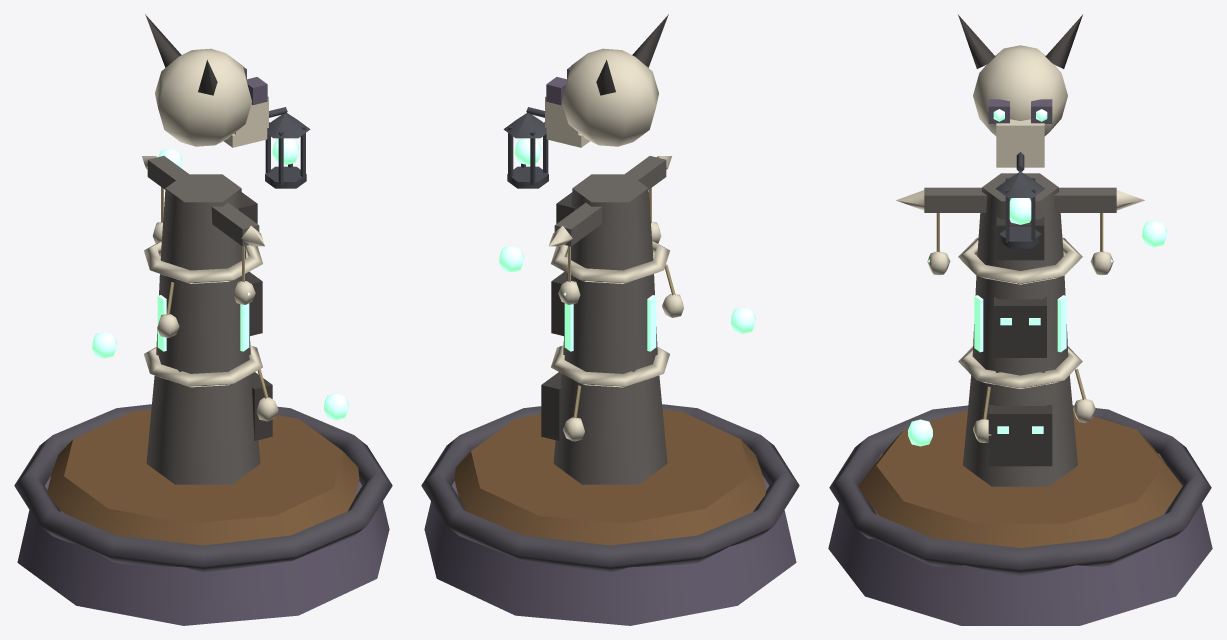
The model's file is tower_necromancer_soulChoir.glb.
3 views of the same model, side by side, from view 1: azimuth 30°, elevation 25°; view 2: azimuth 150°, elevation 25°; view 3: azimuth 270°, elevation 25° (orthographic).
Visible parts, largest first — view 1: grave_soil, base, base_rim, pole_0, skull_cranium, pole_1, pole_2, crossbar, bone_ring_1, bone_ring_0, pole_face_0, pole_face_1 (+6 smaller); view 2: grave_soil, base, base_rim, pole_0, pole_1, skull_cranium, pole_2, crossbar, bone_ring_1, bone_ring_0, pole_face_0, pole_face_1 (+7 smaller); view 3: grave_soil, base, base_rim, pole_0, skull_cranium, pole_1, pole_2, pole_face_0, crossbar, pole_face_1, bone_ring_1, bone_ring_0 (+11 smaller).
Boxes of the visible parts, <box> form: grave_soil: <box>47,409,359,545</box>; base: <box>17,475,389,625</box>; base_rim: <box>14,404,392,572</box>; pole_0: <box>146,374,260,484</box>; skull_cranium: <box>155,48,251,146</box>; pole_1: <box>156,257,250,373</box>; pole_2: <box>160,174,246,270</box>; crossbar: <box>147,156,259,246</box>; bone_ring_1: <box>144,241,262,283</box>; bone_ring_0: <box>144,345,262,387</box>; pole_face_0: <box>252,372,272,440</box>; pole_face_1: <box>247,271,262,336</box>; grave_soil: <box>454,409,766,545</box>; base: <box>424,475,796,625</box>; base_rim: <box>421,404,799,572</box>; pole_0: <box>553,374,667,484</box>; pole_1: <box>563,257,657,373</box>; skull_cranium: <box>562,48,658,146</box>; pole_2: <box>567,174,653,270</box>; crossbar: <box>554,156,666,246</box>; bone_ring_1: <box>551,241,669,283</box>; bone_ring_0: <box>551,345,669,387</box>; pole_face_0: <box>541,372,561,440</box>; pole_face_1: <box>551,271,566,336</box>; grave_soil: <box>858,410,1182,547</box>; base: <box>828,453,1212,625</box>; base_rim: <box>829,405,1211,575</box>; pole_0: <box>963,375,1077,486</box>; skull_cranium: <box>973,45,1067,136</box>; pole_1: <box>972,258,1068,375</box>; pole_2: <box>977,173,1063,270</box>; pole_face_0: <box>988,405,1052,466</box>; crossbar: <box>924,187,1116,212</box>; pole_face_1: <box>994,297,1046,357</box>; bone_ring_1: <box>958,237,1082,284</box>; bone_ring_0: <box>958,346,1082,388</box>.
Bounding box in the file's own units: 0.398 × 0.5985 × 0.4.
